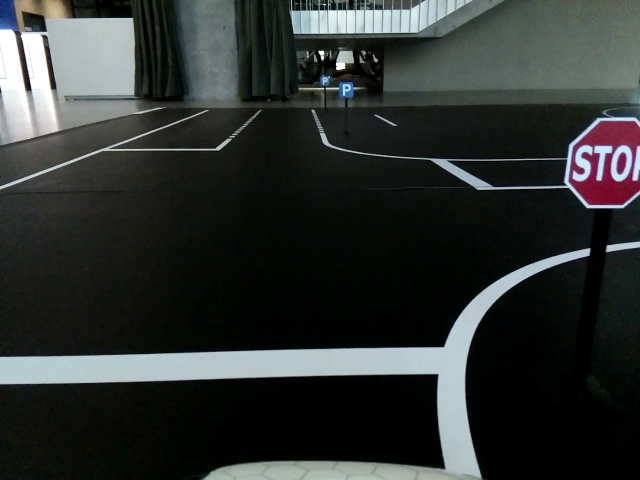stop: (568, 115, 640, 210)
